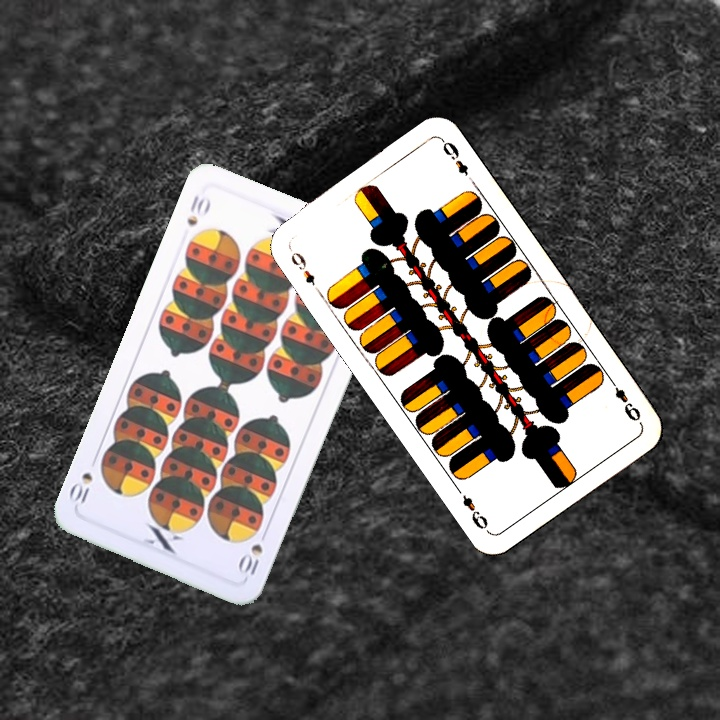E9: (605, 374, 644, 424), (285, 244, 318, 288)
S10: (235, 539, 266, 578), (183, 190, 214, 229)
